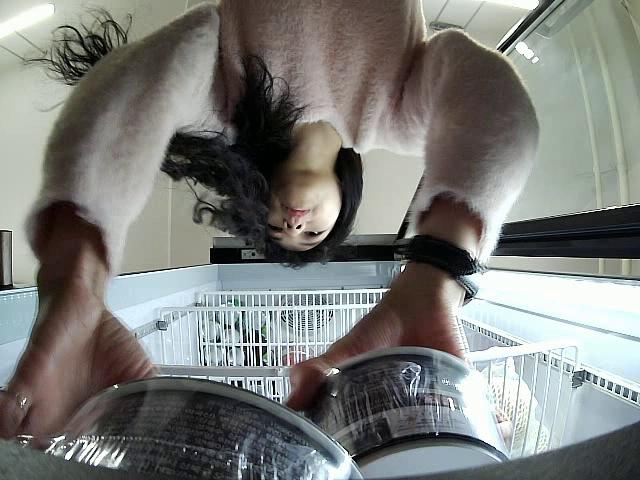00_hand: (0, 294, 155, 454), (283, 297, 477, 411)
07_buldak_L: (41, 376, 360, 480), (300, 343, 513, 470)
